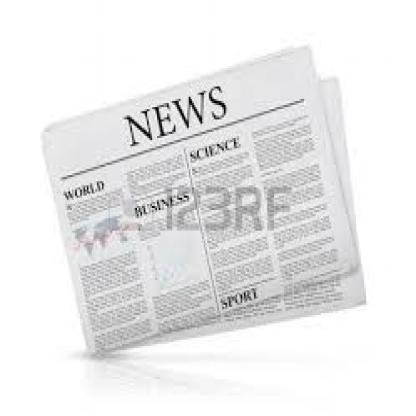Paper: (30, 51, 378, 381)
